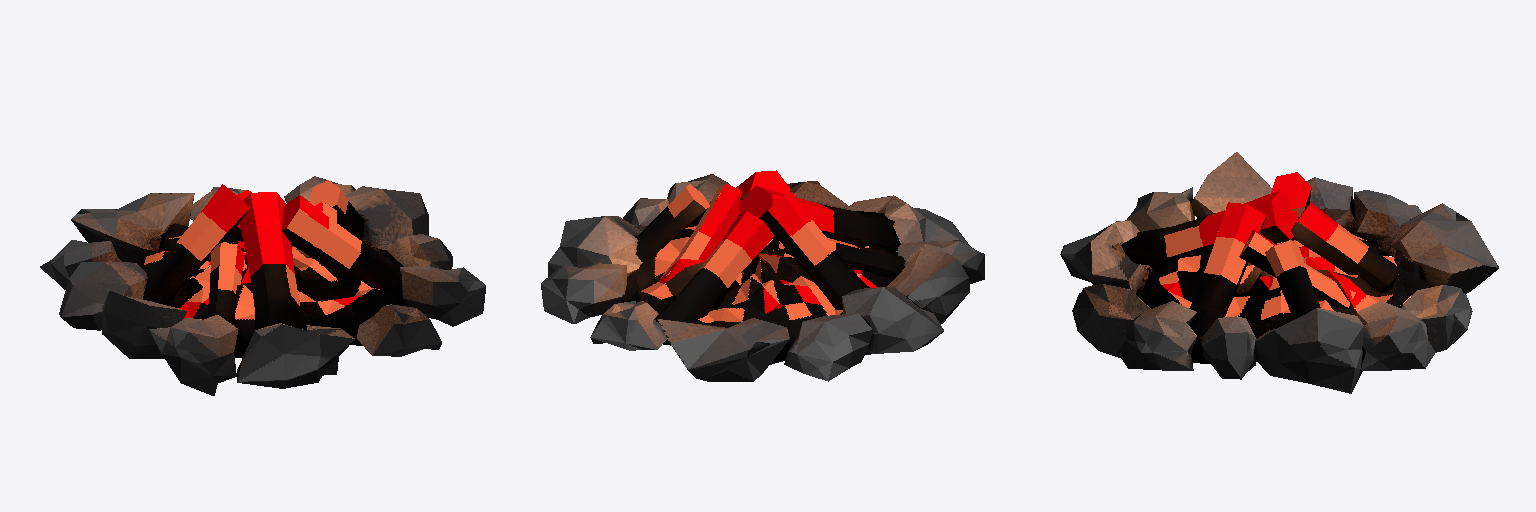
3 views of the same model, side by side, from view 1: azimuth 30°, elevation 25°; view 2: azimuth 150°, elevation 25°; view 3: azimuth 270°, elevation 25° (orthographic).
Visible parts, largest first — view 1: Support_Cube.001; view 2: Support_Cube.001; view 3: Support_Cube.001.
Part boxes in pixels (bbox=[...]): Support_Cube.001: bbox=[40, 176, 485, 395]; Support_Cube.001: bbox=[541, 170, 984, 381]; Support_Cube.001: bbox=[1060, 152, 1498, 393].
Bounding box in the file's own units: 1.72 × 0.6356 × 1.76.
1 materials, 1 textured.